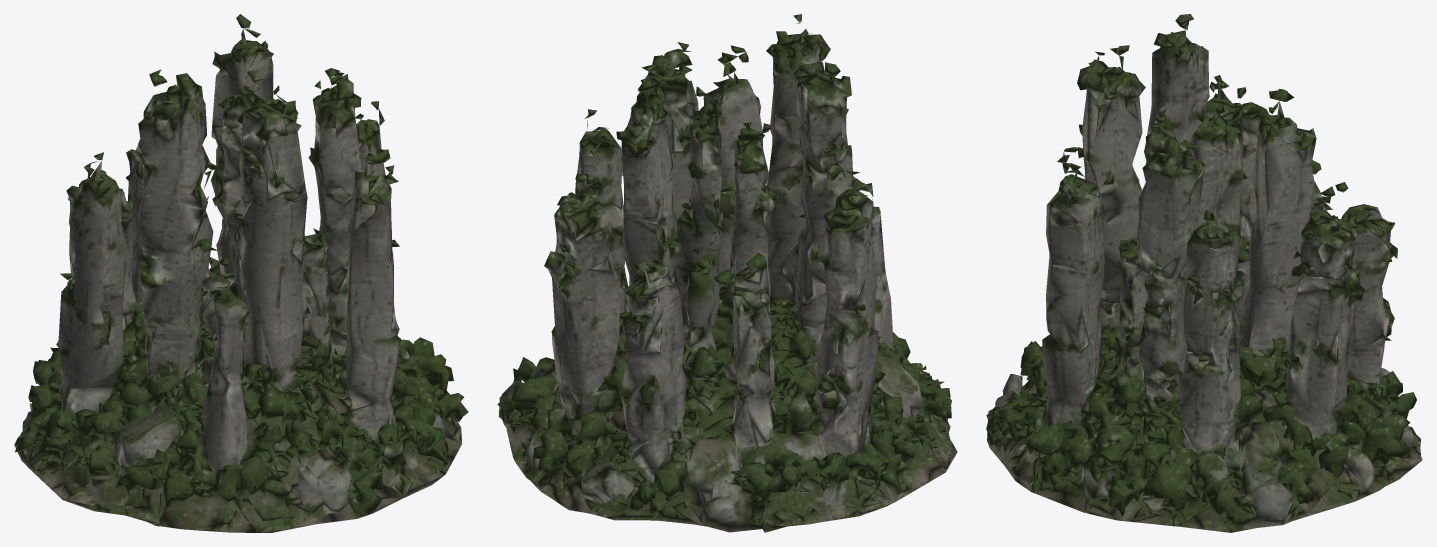
Rendered from av_needles_far.glb.
The picture shows the model from 3 angles, left to right: view 1: azimuth 30°, elevation 25°; view 2: azimuth 150°, elevation 25°; view 3: azimuth 270°, elevation 25°; orthographic projection. The views are drawn at different scales.
Parts seen in each view (by area): view 1: av_needles; view 2: av_needles; view 3: av_needles.
Part boxes in pixels (x1,y1,x2,y2): av_needles: [14, 14, 468, 532]; av_needles: [497, 14, 957, 532]; av_needles: [986, 14, 1422, 532].
Size of the model in its own units: 1.87 by 1.74 by 1.8.
1 material, 1 textured.
